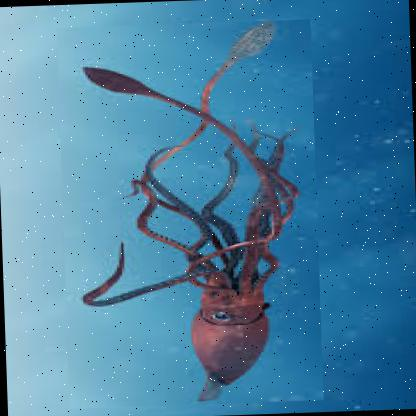colossal_squid: (55, 18, 324, 409)
